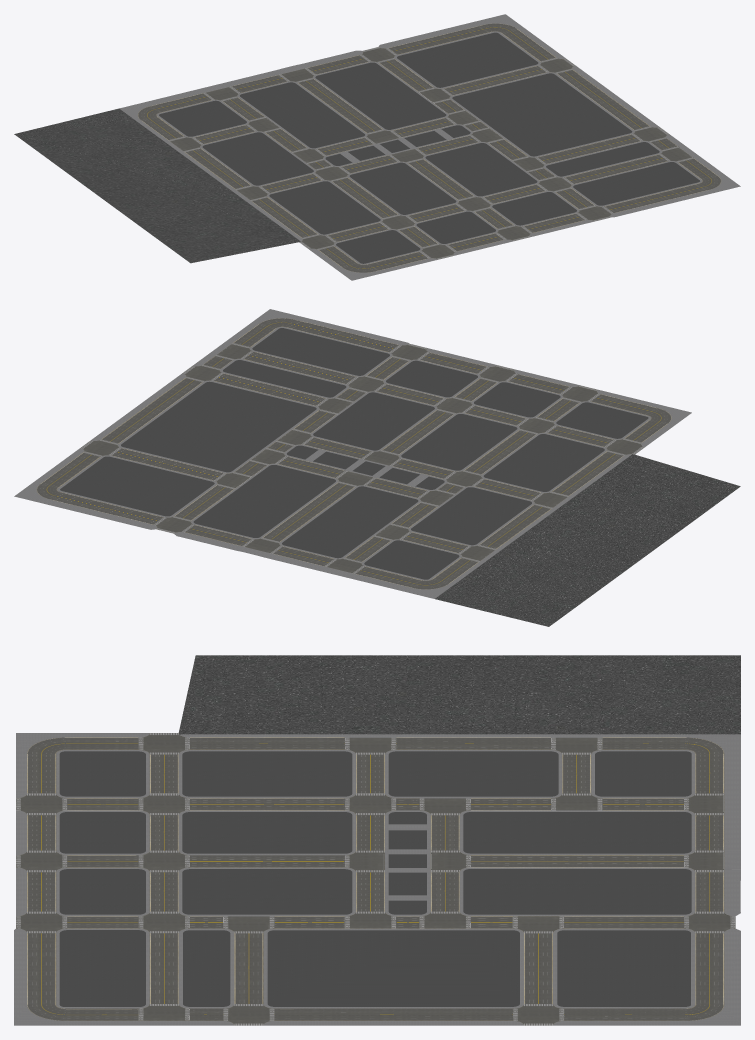
Rendered from road map.fbx.
3 renders of one model, top to bottom at view 1: azimuth 30°, elevation 25°; view 2: azimuth 150°, elevation 25°; view 3: azimuth 270°, elevation 25°, orthographic. The views are drawn at different scales.
Visible parts, largest first — view 1: Road_map, bases, footpath1, base8, base10, base9, base11, base1, base2, base13, base19, base6 (+5 smaller); view 2: Road_map, bases, footpath1, base8, base10, base9, base11, base1, base13, base2, base19, base6 (+5 smaller); view 3: Road_map, bases, footpath1, base8, base10, base9, base11, base1, base2, base13, base19, base6 (+7 smaller).
Part boxes in pixels (bbox=[...]): Road_map: bbox=[137, 23, 721, 272]; bases: bbox=[14, 108, 300, 263]; footpath1: bbox=[119, 14, 740, 280]; base8: bbox=[452, 73, 632, 156]; base10: bbox=[315, 62, 446, 129]; base9: bbox=[397, 32, 538, 87]; base11: bbox=[240, 82, 364, 148]; base1: bbox=[425, 143, 537, 196]; base2: bbox=[269, 181, 380, 234]; base13: bbox=[202, 132, 313, 185]; base19: bbox=[349, 162, 456, 214]; base6: bbox=[573, 162, 699, 205]; Road_map: bbox=[36, 318, 671, 589]; bases: bbox=[435, 454, 740, 626]; footpath1: bbox=[14, 309, 691, 598]; base8: bbox=[121, 381, 316, 472]; base10: bbox=[193, 465, 335, 537]; base9: bbox=[60, 456, 214, 516]; base11: bbox=[282, 486, 418, 558]; base1: bbox=[313, 392, 434, 450]; base13: bbox=[411, 487, 531, 545]; base2: bbox=[483, 434, 604, 491]; base19: bbox=[401, 414, 517, 470]; base6: bbox=[252, 328, 389, 375]; Road_map: bbox=[16, 733, 735, 1025]; bases: bbox=[178, 655, 740, 734]; footpath1: bbox=[14, 733, 740, 1025]; base8: bbox=[267, 930, 519, 1006]; base10: bbox=[463, 869, 691, 914]; base9: bbox=[557, 930, 690, 1006]; base11: bbox=[463, 812, 691, 853]; base1: bbox=[182, 869, 352, 914]; base2: bbox=[182, 751, 352, 796]; base13: bbox=[388, 751, 558, 796]; base19: bbox=[182, 812, 352, 853]; base6: bbox=[59, 930, 145, 1006].
Size of the model in its own units: 70748 by 30.98 by 58670.
